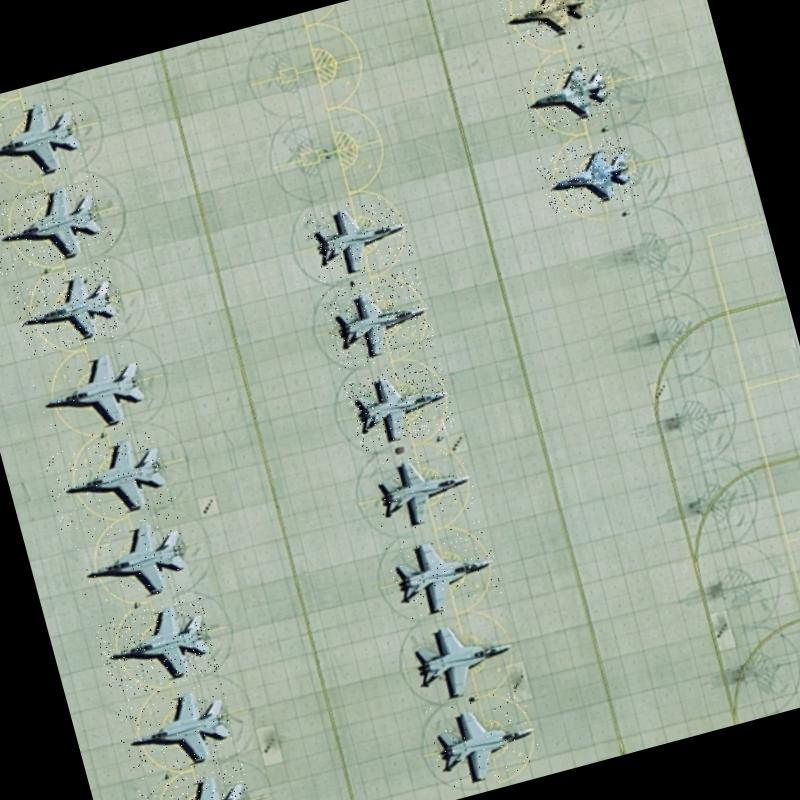A16: (110, 674, 242, 786), (26, 337, 158, 448), (64, 506, 196, 617), (396, 602, 528, 712), (42, 425, 176, 532), (419, 682, 544, 793), (92, 594, 220, 700), (382, 520, 504, 624), (318, 268, 438, 372), (8, 258, 129, 359), (0, 173, 115, 277), (363, 437, 479, 536), (342, 356, 457, 452), (302, 190, 414, 284), (0, 87, 98, 194), (138, 762, 261, 800)
A5: (515, 53, 620, 138), (534, 134, 639, 219), (493, 0, 596, 49)
